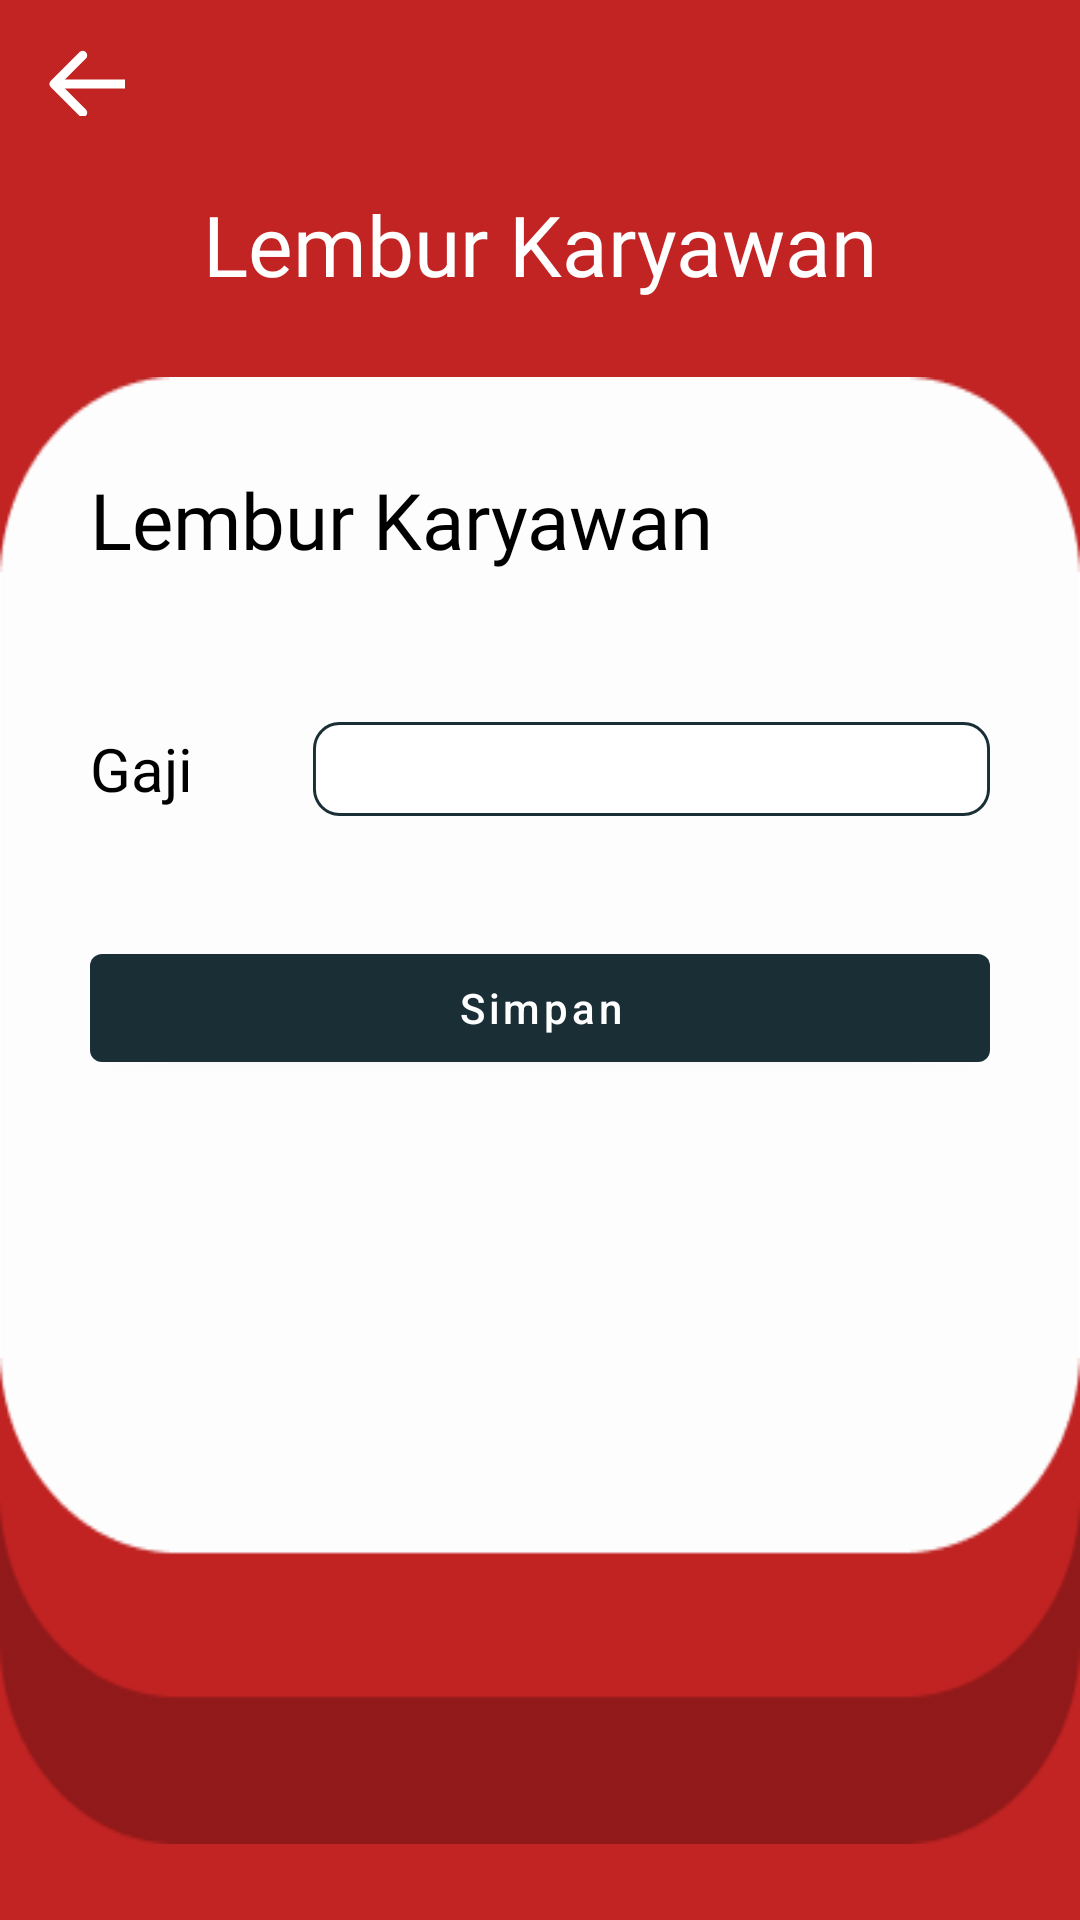

Icons on this 1080 x 1920 Android screen, each with its box as BBox(x1, y1, x2, y2):
back: BBox(49, 50, 125, 116)
